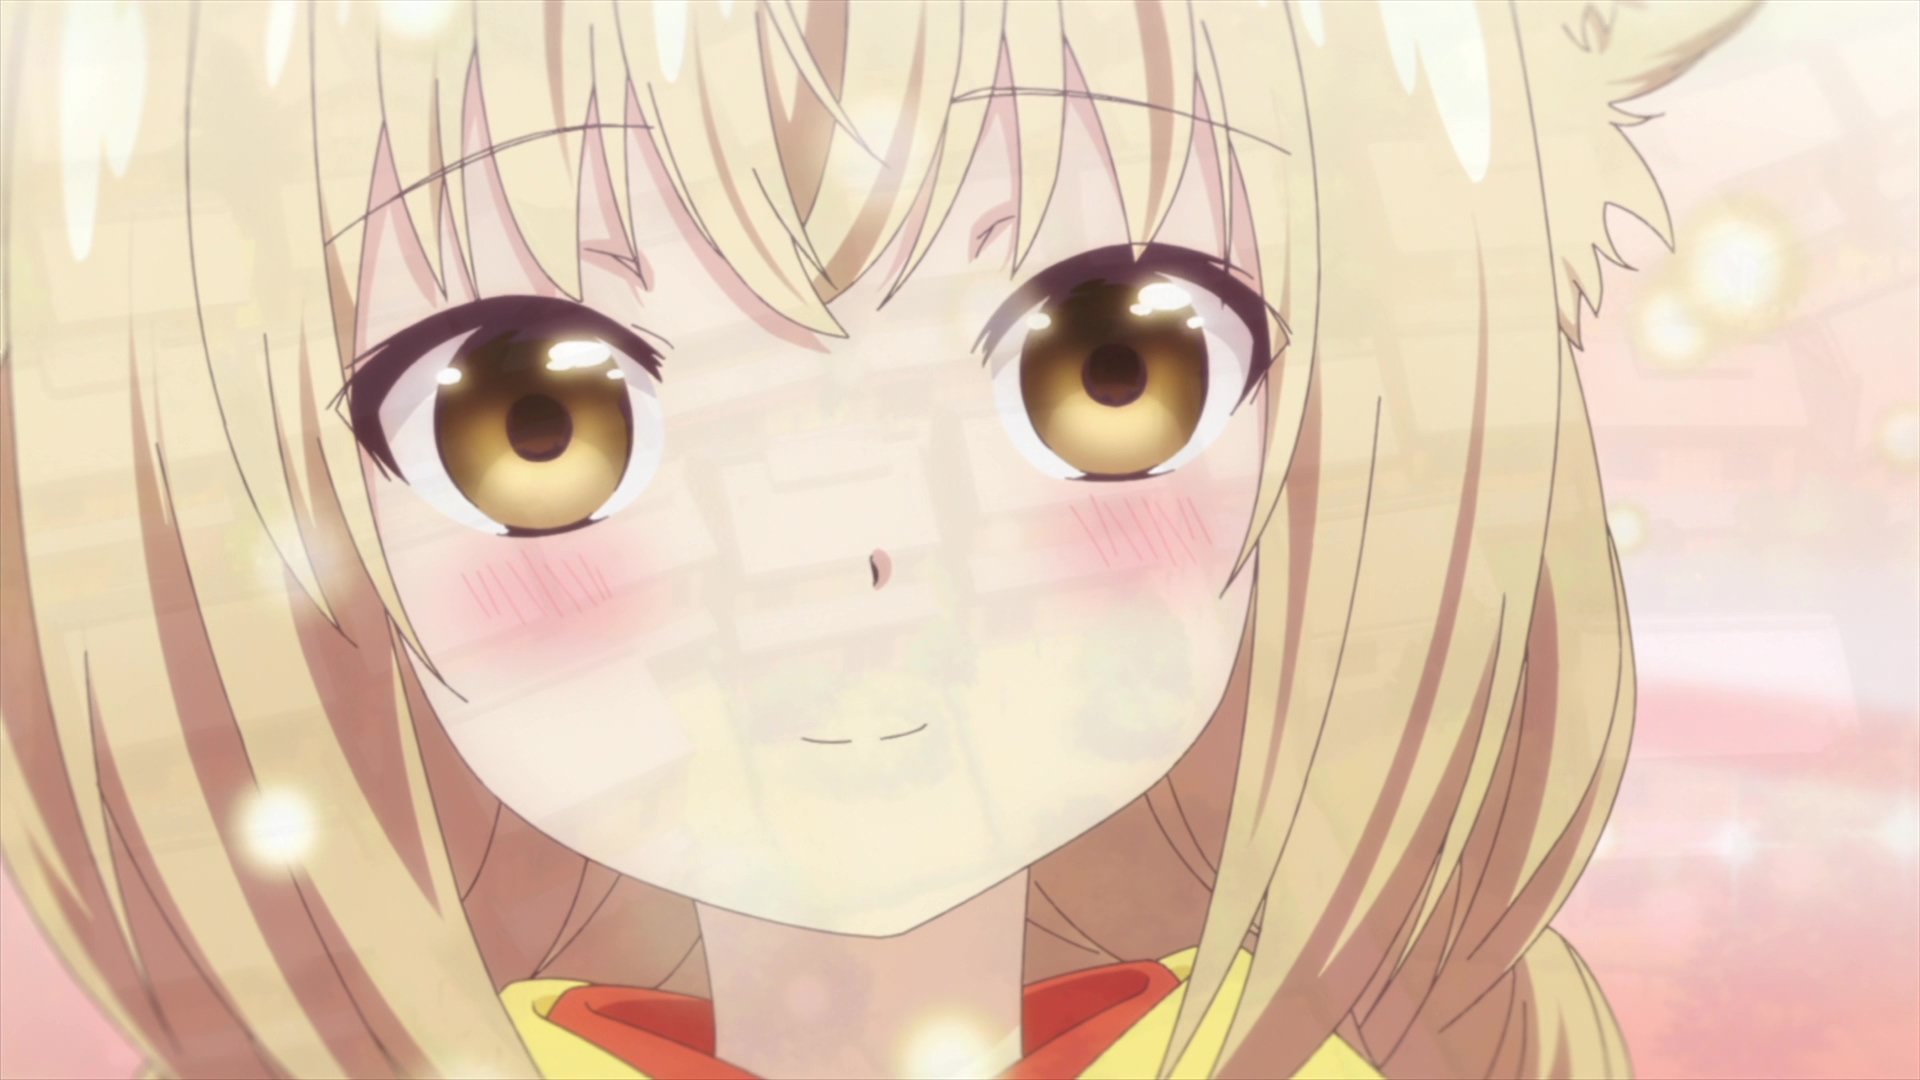柚: (1, 1, 1770, 1080)
